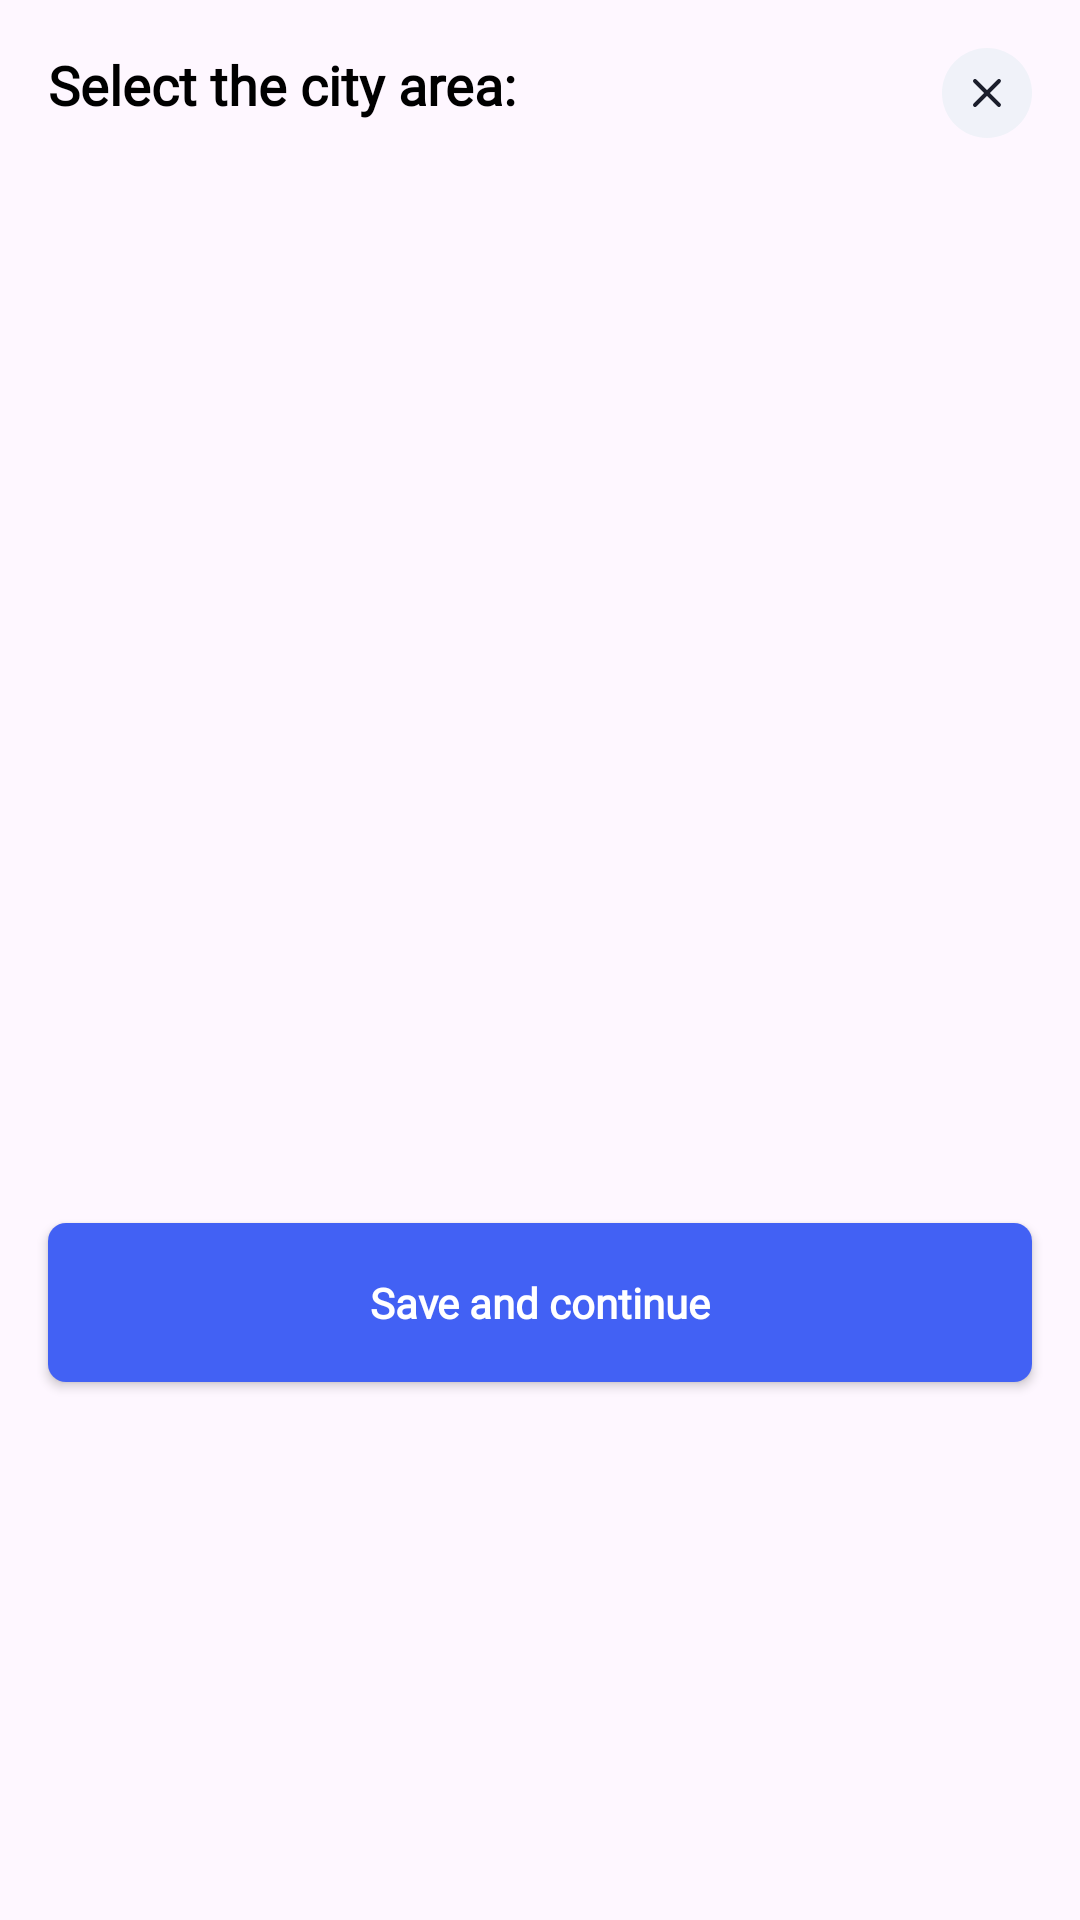

Icon bounding boxes for this 1080 × 1920 phone screenshot, format box=[x1, y1, x2, y2]:
close: box=[942, 48, 1032, 138]
